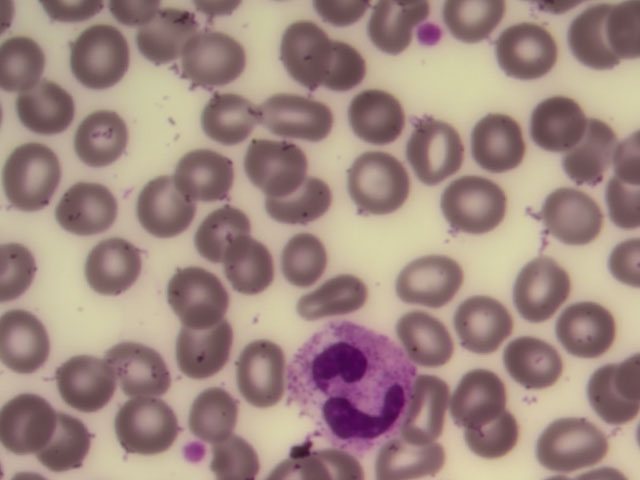Platelets: (418, 22, 445, 47), (182, 443, 203, 461)
RBC: (69, 23, 132, 88), (12, 71, 75, 136), (72, 106, 135, 171), (7, 145, 70, 210), (51, 171, 114, 236), (87, 232, 150, 297), (1, 310, 64, 375), (1, 381, 64, 446), (27, 412, 90, 477), (54, 352, 117, 417), (102, 327, 165, 392), (113, 394, 176, 459), (185, 378, 248, 443), (213, 415, 276, 480), (229, 343, 292, 408), (167, 310, 230, 375), (166, 264, 229, 329), (219, 241, 282, 306), (196, 202, 259, 267), (130, 179, 193, 244), (171, 147, 234, 212), (193, 93, 256, 158), (190, 30, 253, 95), (138, 9, 201, 74), (267, 78, 330, 143), (240, 122, 303, 187), (272, 163, 335, 228), (272, 221, 335, 286), (294, 254, 357, 319), (400, 243, 463, 308), (395, 303, 458, 368), (410, 378, 473, 443), (392, 415, 455, 480), (449, 359, 512, 424), (459, 401, 522, 466), (495, 333, 558, 398), (548, 302, 611, 367), (506, 253, 569, 318), (451, 288, 514, 353), (444, 176, 507, 241), (402, 121, 465, 186), (348, 149, 411, 214), (342, 75, 405, 140), (319, 37, 382, 102), (278, 20, 341, 85), (492, 23, 555, 88), (452, 1, 515, 66), (557, 10, 620, 75), (529, 87, 592, 152), (474, 113, 537, 178), (555, 119, 618, 184), (540, 184, 603, 249), (537, 415, 600, 480), (1, 28, 63, 93)
WBC: (285, 317, 419, 442)
